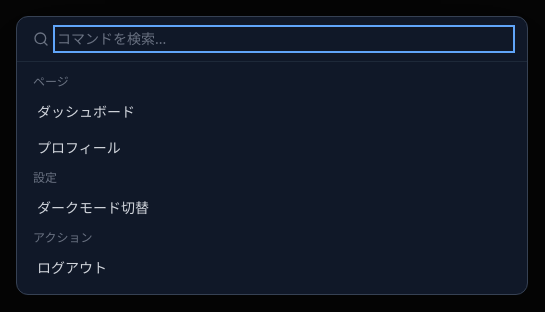
Test case: CommandPalette › 検索結果が空の場合メッセージが表示される
Type "zzzzz" into the field with placeholder "コマンドを検索..." at (284, 39), box [57, 29, 511, 49]
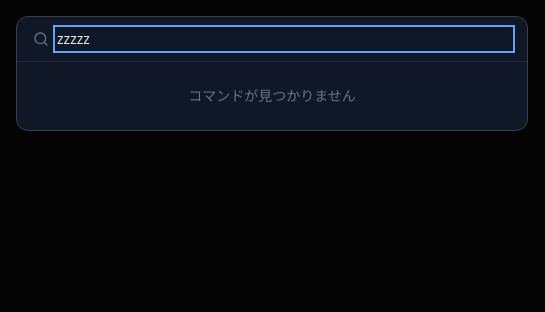
Expected: the text "コマンドが見つかりません" is shown, [188, 86, 356, 105]
